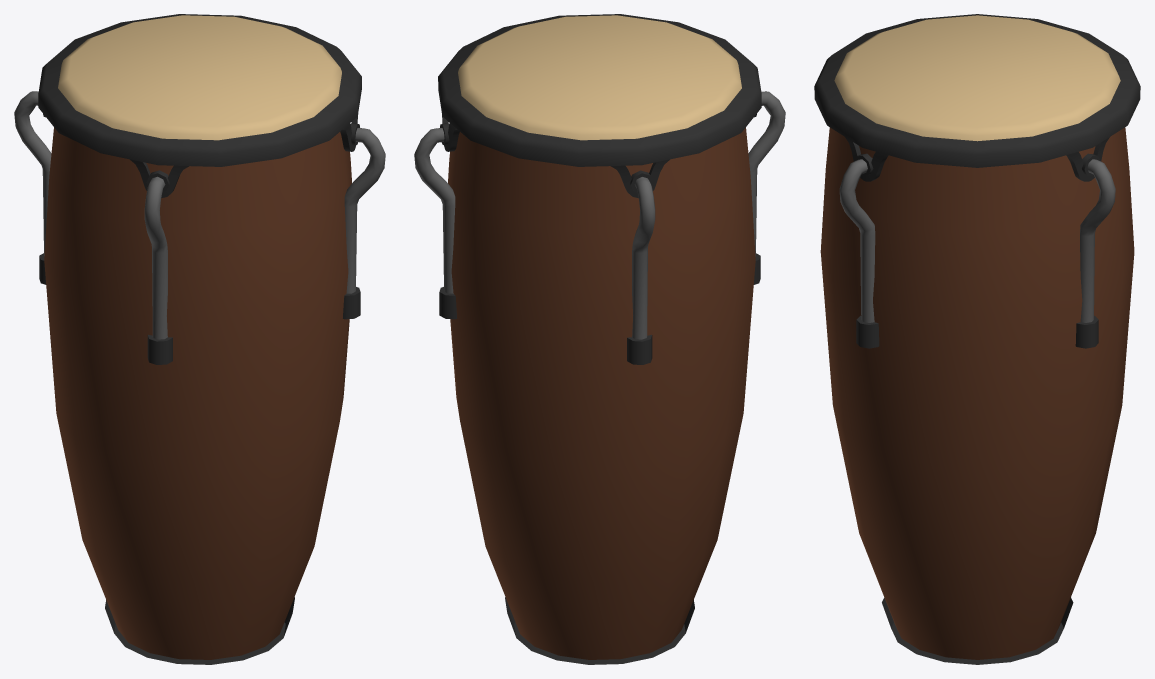
Rendered from CongaDrum_02.fbx.
The picture shows the model from 3 angles, left to right: view 1: azimuth 30°, elevation 25°; view 2: azimuth 150°, elevation 25°; view 3: azimuth 270°, elevation 25°; orthographic projection.
Visible parts, largest first — view 1: CongaDrum_02; view 2: CongaDrum_02; view 3: CongaDrum_02.
Boxes of the visible parts, bbox=[...] form: CongaDrum_02: bbox=[14, 14, 385, 664]; CongaDrum_02: bbox=[414, 14, 785, 664]; CongaDrum_02: bbox=[814, 14, 1140, 664].
Bounding box in the file's own units: 0.439 × 0.8274 × 0.439.
